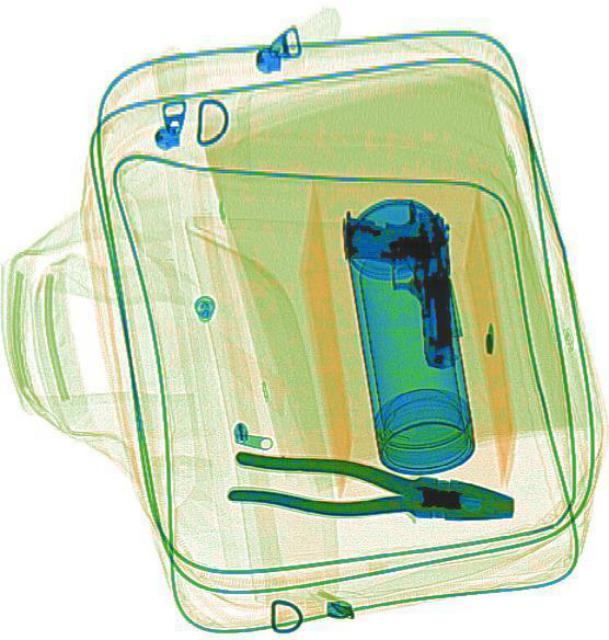Gun: (337, 192, 457, 376)
Pliers: (224, 446, 513, 534)
